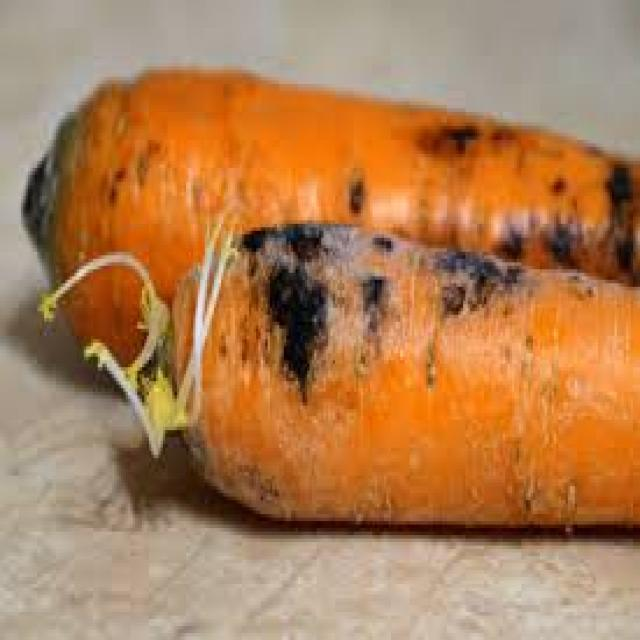Stale_Carrot: (27, 72, 640, 370), (173, 221, 640, 531)
